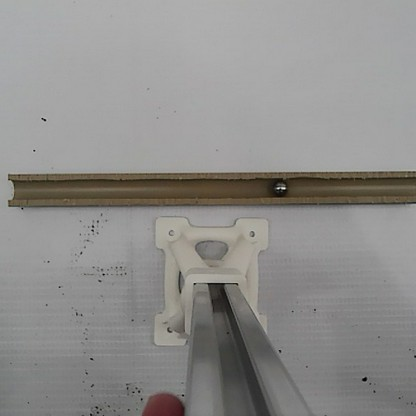ironball: (267, 176, 289, 198)
